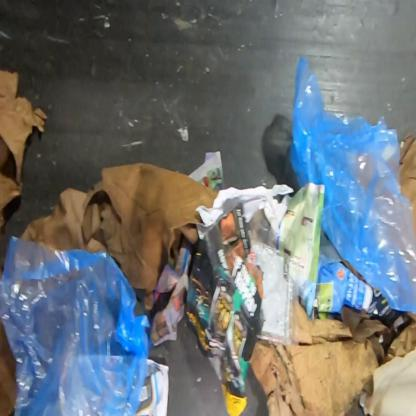cardboard: (249, 304, 381, 415), (366, 288, 412, 336), (134, 358, 170, 415)
rigid_plastic: (219, 382, 249, 415)
soft_plastic: (288, 53, 415, 321), (0, 231, 154, 416), (245, 237, 307, 349)
